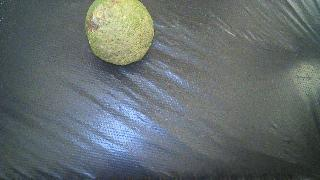DESECHO: (85, 0, 154, 65)
